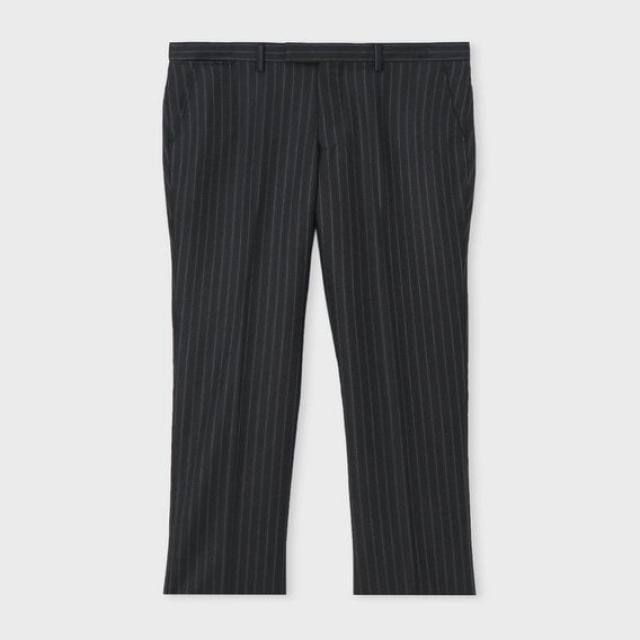long-pants: (161, 42, 480, 600)
